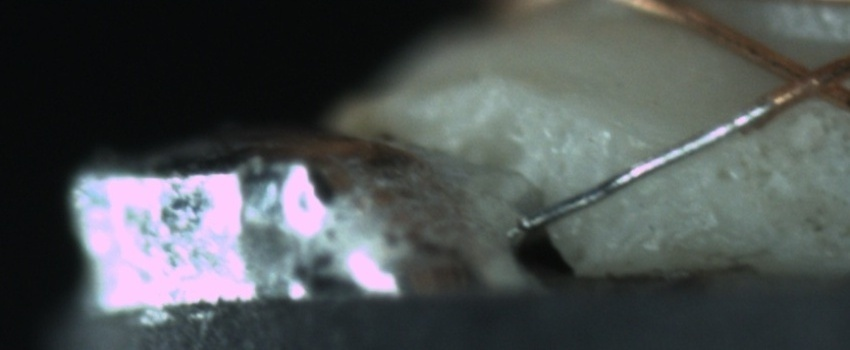CL: (757, 45, 846, 110)
TS: (518, 100, 775, 236)
